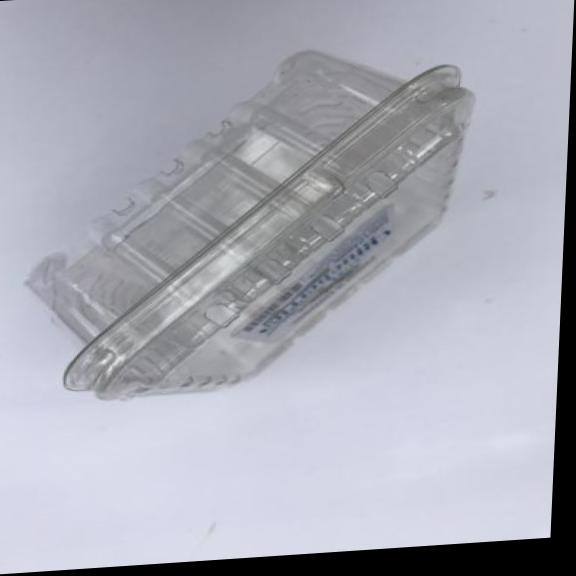Plastik: (11, 24, 487, 418)
